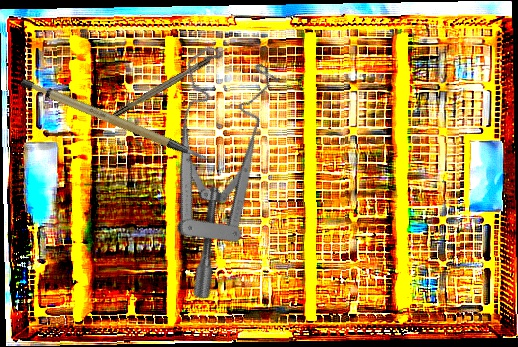Hook Surgical: (112, 46, 229, 119)
Scalpel Handle: (18, 54, 210, 191)
Speculum: (87, 31, 325, 304)
